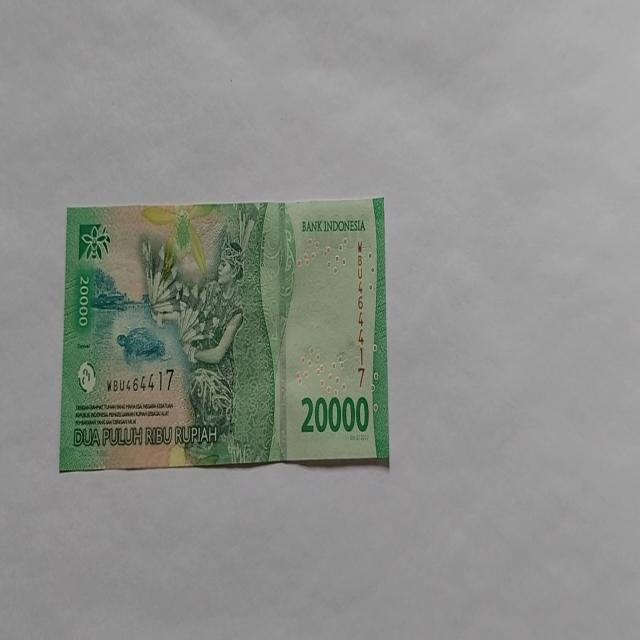dua puluh ribu rupiah: (59, 196, 390, 472)
